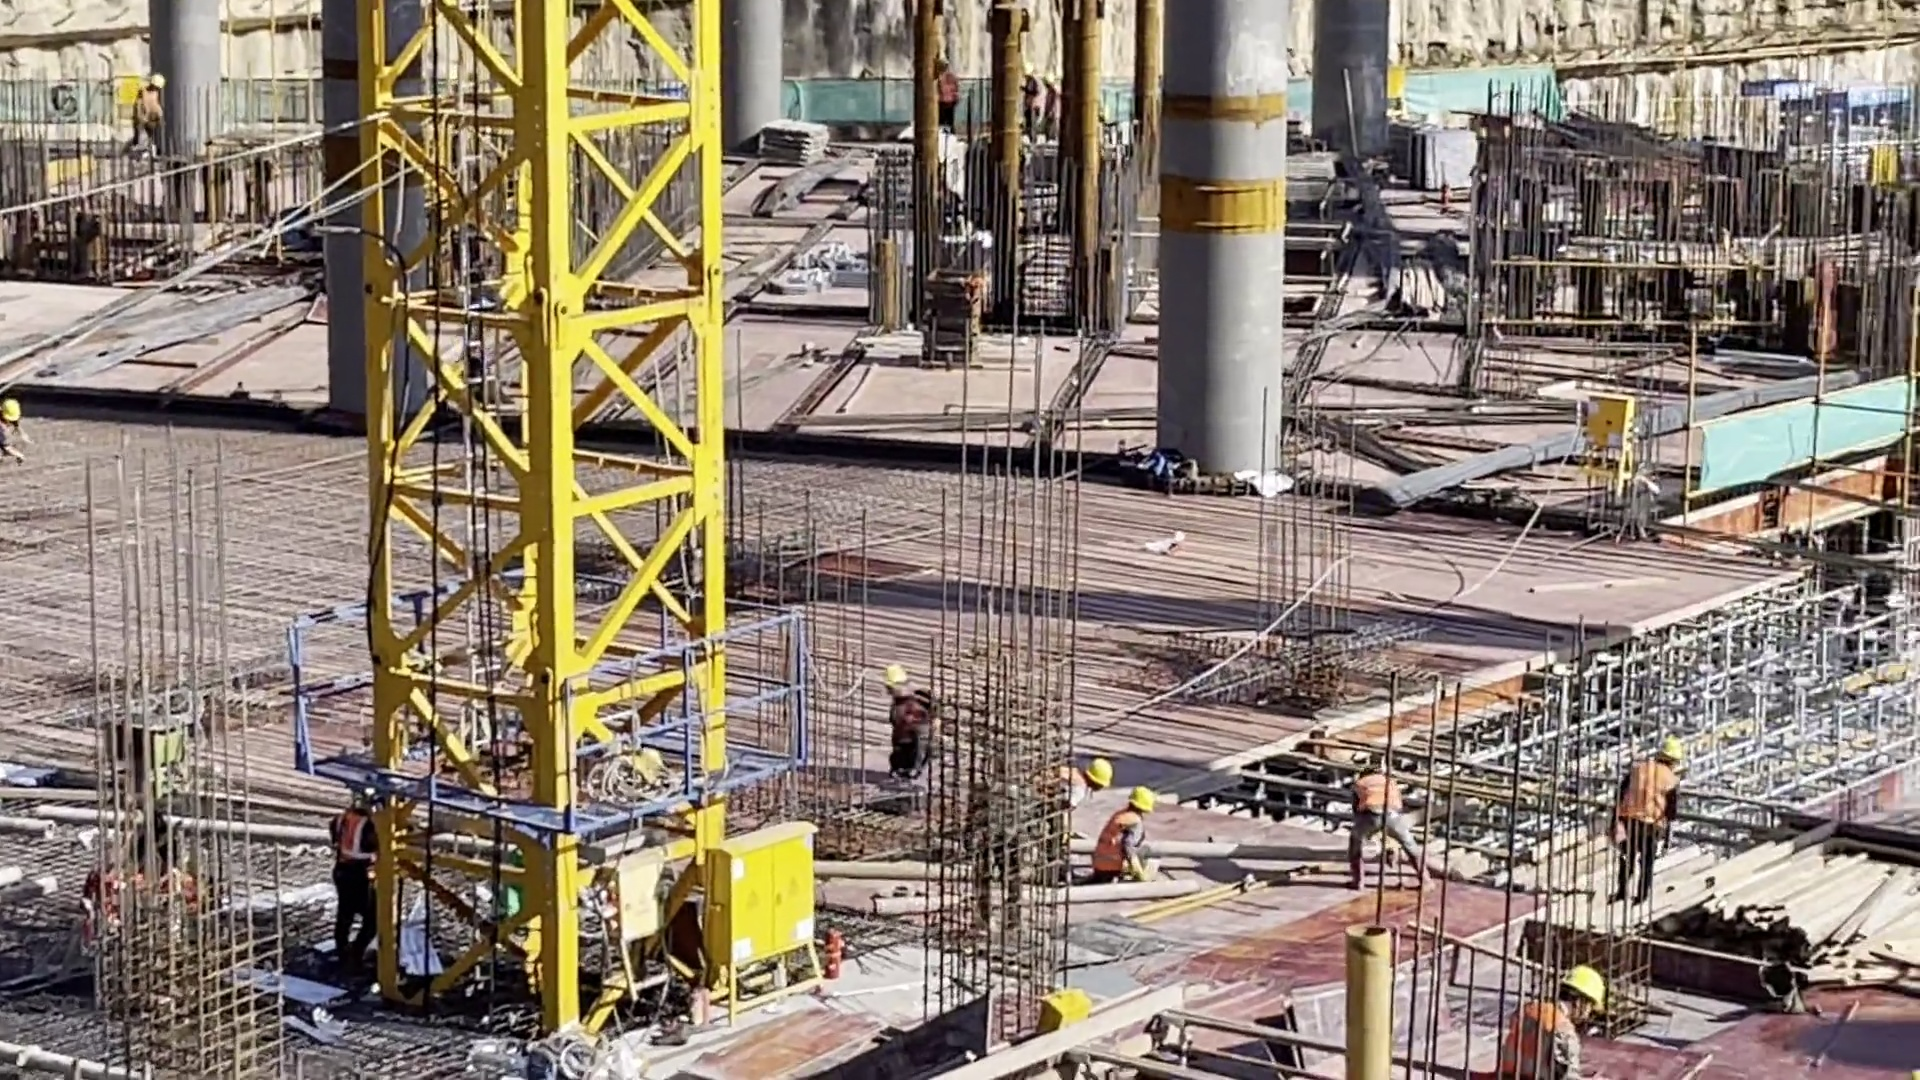ebox: (701, 837, 821, 981), (1585, 393, 1633, 445)
helmet: (1561, 965, 1605, 1010), (1085, 757, 1113, 788), (1128, 785, 1155, 812), (1659, 739, 1680, 761), (883, 664, 906, 683), (2, 399, 19, 422), (151, 74, 165, 88)
person: (321, 785, 390, 983), (1500, 966, 1606, 1080), (1346, 768, 1431, 899), (1616, 741, 1678, 908), (881, 669, 946, 786), (1036, 760, 1116, 835), (1096, 790, 1157, 880), (134, 73, 162, 150), (1, 401, 28, 471), (939, 61, 961, 137), (1020, 64, 1043, 139)
vest: (1498, 1008, 1566, 1079), (1623, 764, 1671, 835), (1350, 776, 1412, 815), (329, 818, 375, 870), (1097, 816, 1131, 876)
wood: (1683, 847, 1913, 989)
